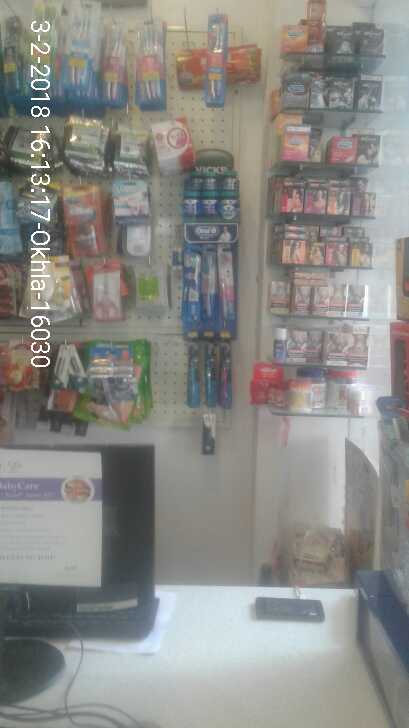pharmacy: (185, 248, 240, 333), (184, 171, 244, 219)
